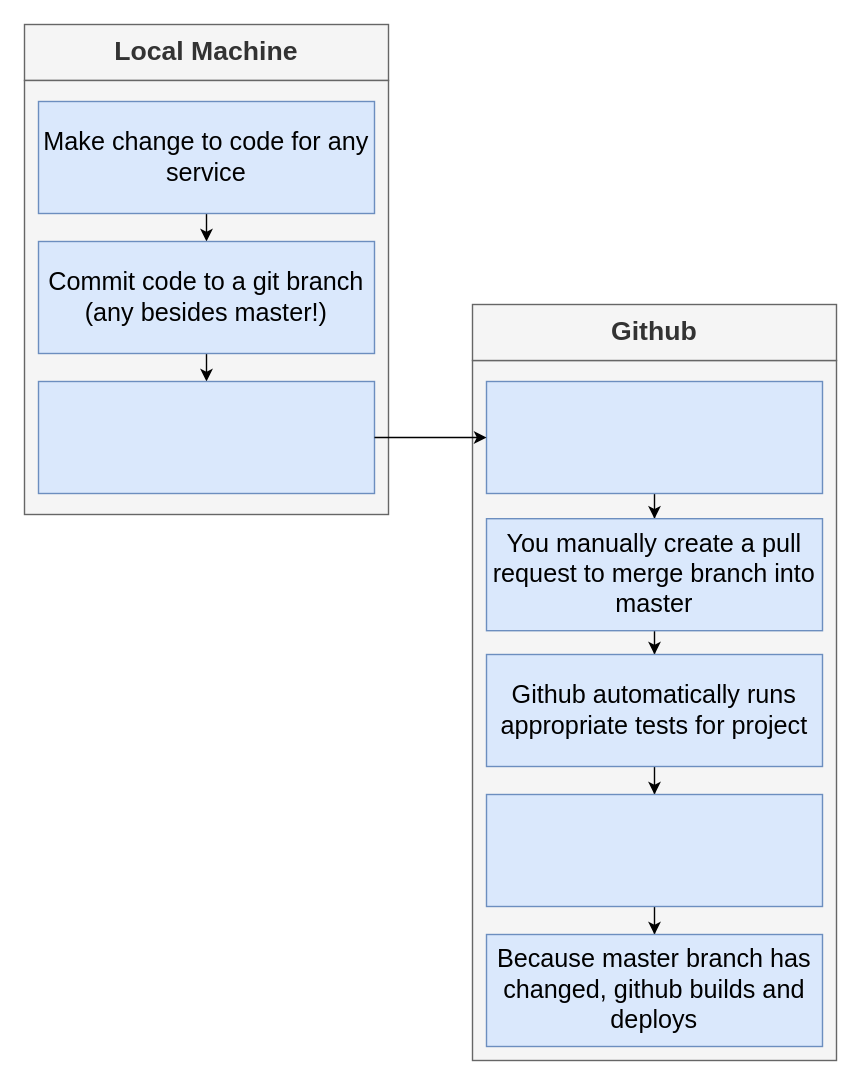
This 861x1085 diagram has some shape labels left out. The centre of each missing label's shape, as x and y in pixels:
After tests pass, you merge the PR into master branch: pixel 653 849
Github receives updated branch: pixel 653 436
Push branch to github: pixel 205 436
